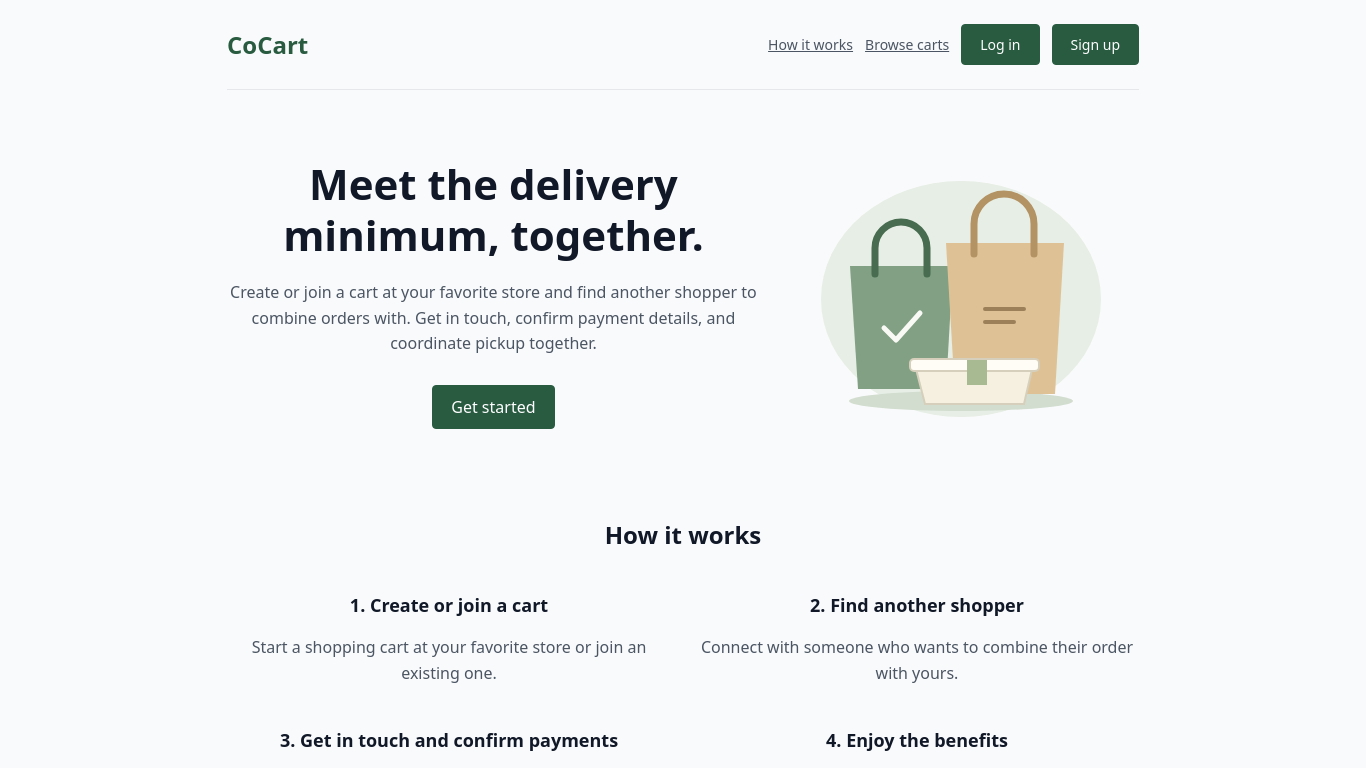
clicking nav links changes the page
Click the link "Browse carts": x=907, y=44 [865, 35, 949, 54]
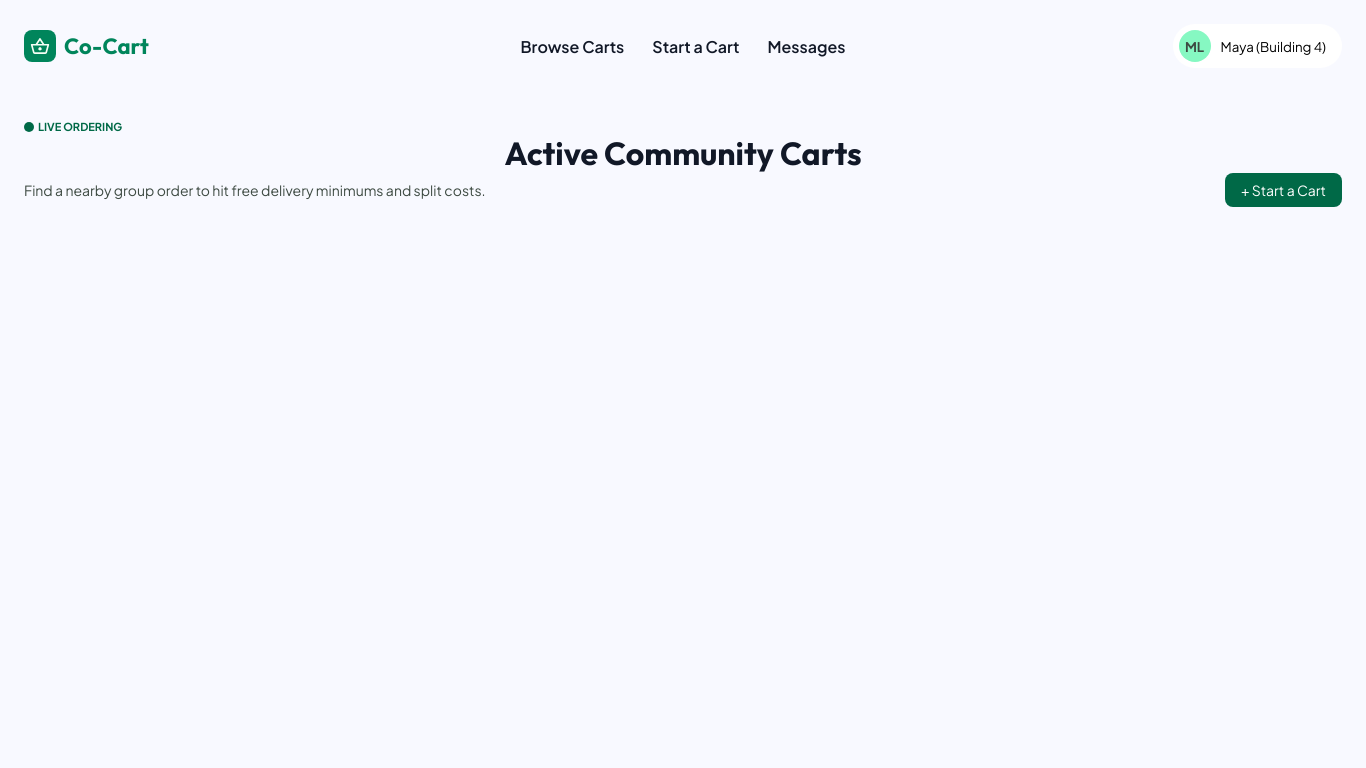
Check: the heading "Active Community Carts" is shown, box [504, 133, 862, 173]
Click the link with aria-label "CoCart home": x=86, y=46 [24, 30, 149, 62]
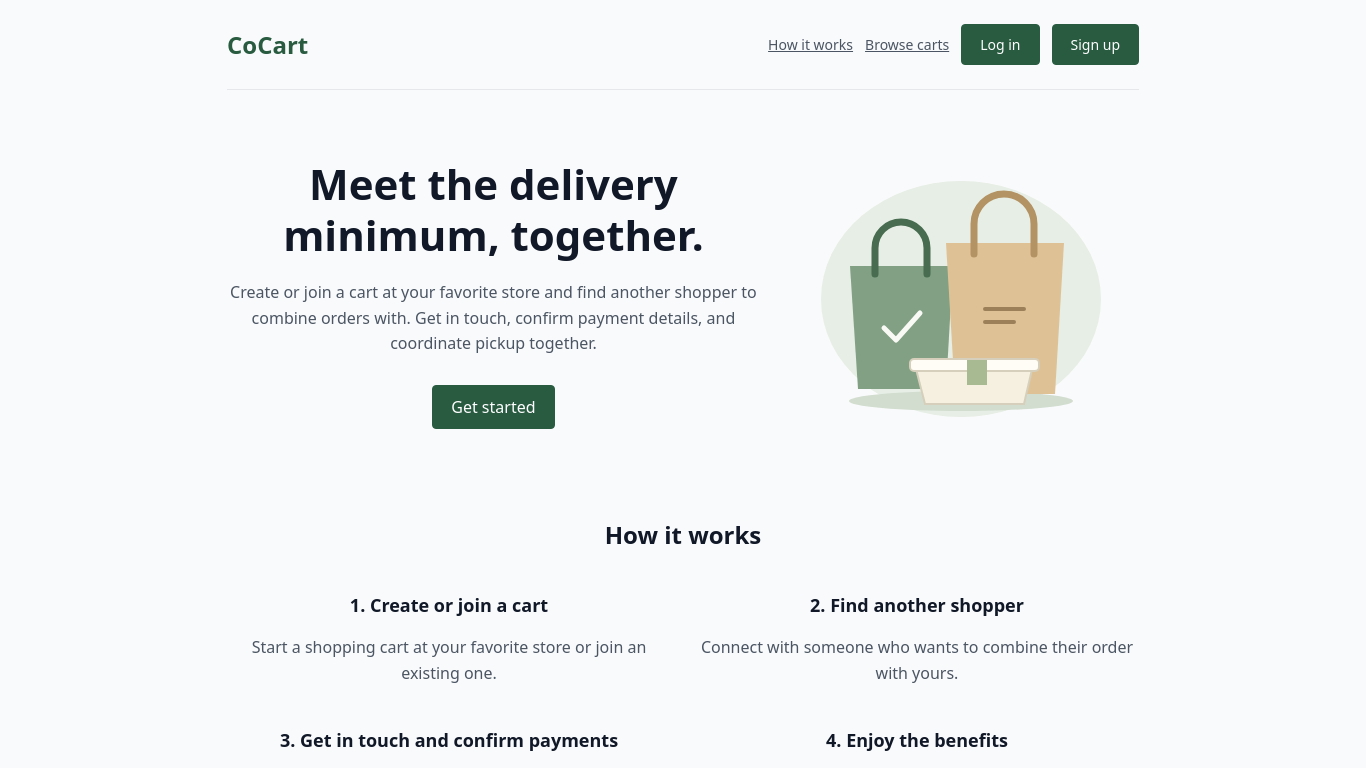
Check: the heading "Meet the delivery minimum, together." is shown, box [283, 155, 704, 263]
